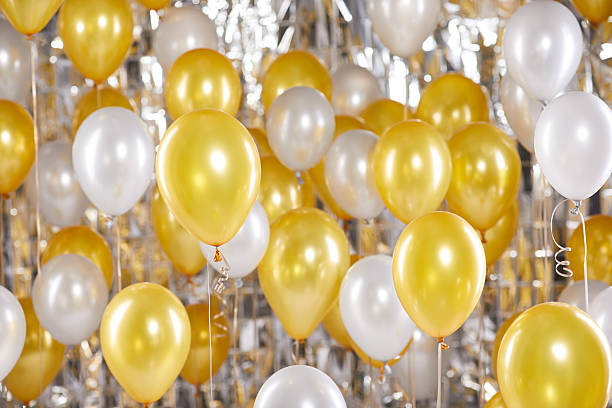Balloon: (156, 112, 263, 243), (391, 211, 487, 340), (495, 302, 610, 408), (98, 283, 191, 408), (260, 209, 345, 334), (74, 105, 157, 215), (533, 92, 612, 200), (372, 120, 453, 215), (447, 123, 520, 226), (503, 1, 585, 91), (31, 253, 108, 348), (57, 1, 132, 78), (266, 87, 336, 163), (366, 1, 441, 56), (251, 365, 346, 408)
